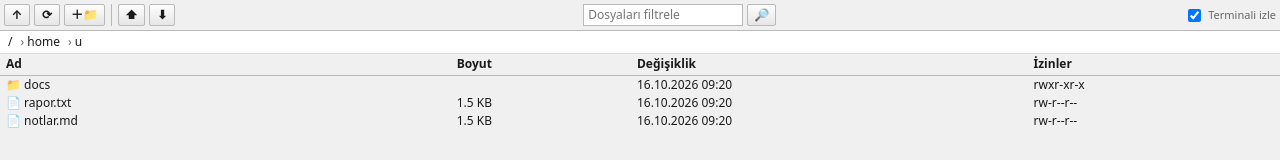
Test: clicking a breadcrumb jumps to that directory
The width and height of the screenshot is (1280, 160).
Double-click the text "docs": (15, 84) x1=0 y1=75 x2=451 y2=94
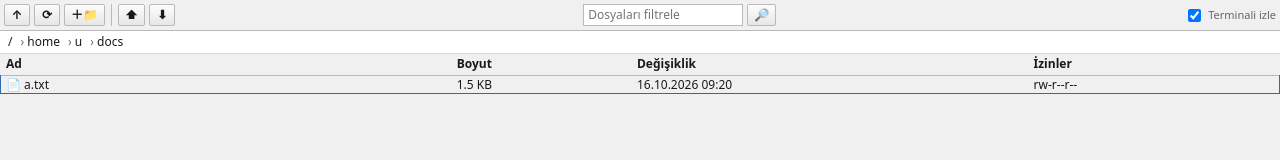
Now the text "a.txt" is shown, box x1=24 y1=76 x2=49 y2=93
Click the button "u": (75, 42) x1=64 y1=33 x2=86 y2=51
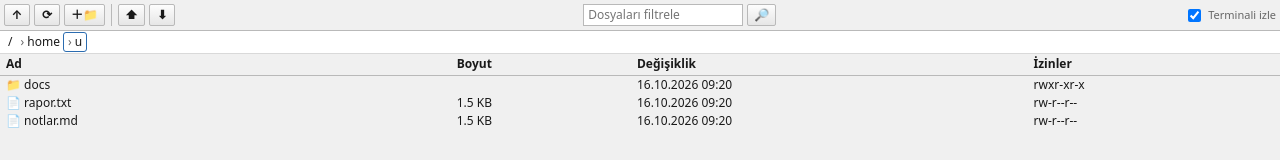
Now the text "rapor.txt" is shown, box x1=24 y1=94 x2=72 y2=111
